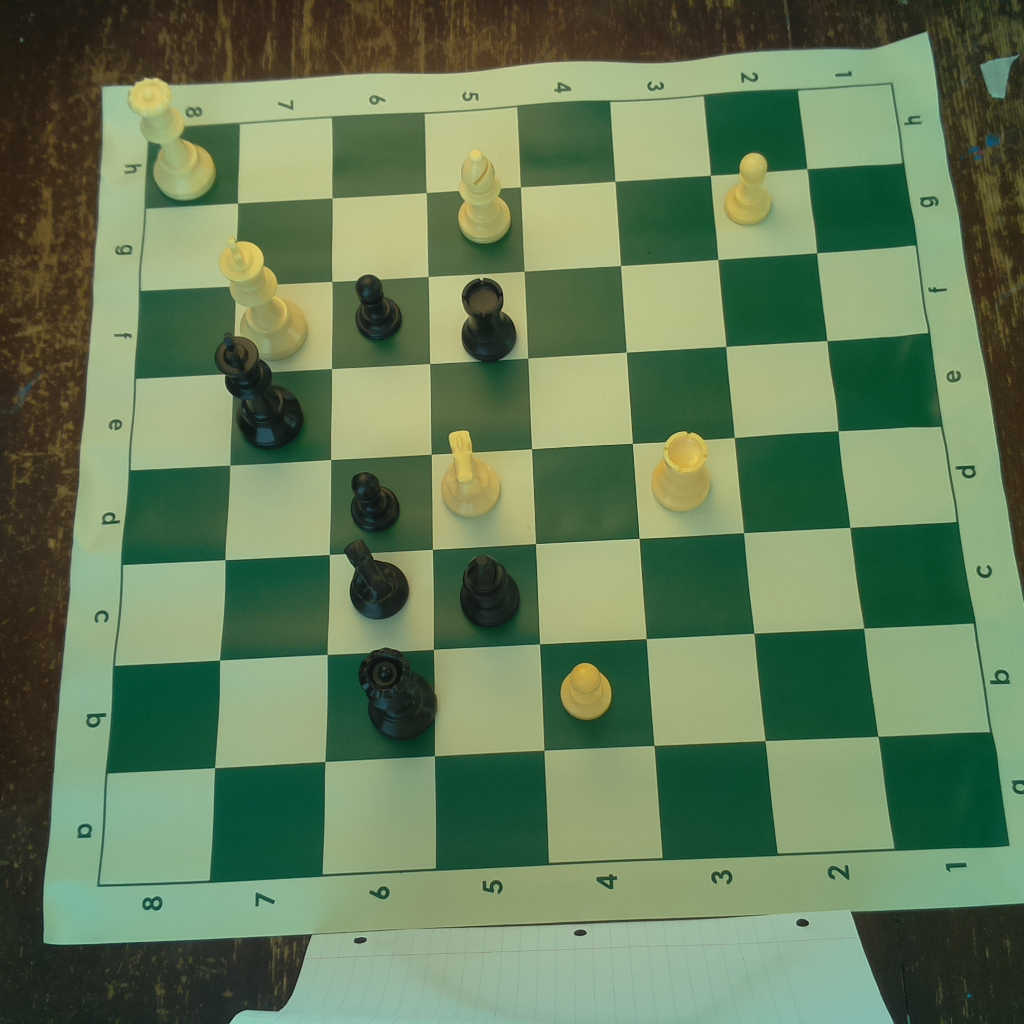black_bishop: (455, 553, 523, 631)
black_king: (206, 330, 306, 449)
black_knight: (337, 540, 411, 623)
black_pawn: (342, 464, 406, 531), (349, 270, 406, 341)
black_queen: (357, 643, 438, 741)
black_rook: (453, 275, 521, 361)
file_a: (98, 734, 1010, 884)
file_b: (106, 623, 992, 774)
file_c: (115, 525, 972, 665)
file_d: (119, 425, 959, 567)
file_e: (132, 332, 942, 471)
file_f: (136, 244, 932, 378)
file_g: (141, 164, 918, 291)
file_h: (146, 83, 905, 210)
outline: (96, 84, 1012, 882)
rank_1: (798, 83, 1007, 853)
rank_2: (705, 87, 892, 854)
rank_3: (610, 96, 779, 857)
rank_4: (512, 99, 664, 864)
rank_5: (424, 105, 549, 871)
rank_6: (320, 110, 436, 873)
rank_7: (208, 118, 332, 882)
rank_8: (97, 123, 242, 890)
white_bishop: (454, 144, 515, 245)
white_king: (215, 238, 308, 358)
white_knight: (432, 428, 502, 518)
white_pawn: (719, 144, 781, 228), (551, 660, 619, 721)
white_queen: (127, 74, 216, 201)
white_rook: (647, 427, 714, 515)
